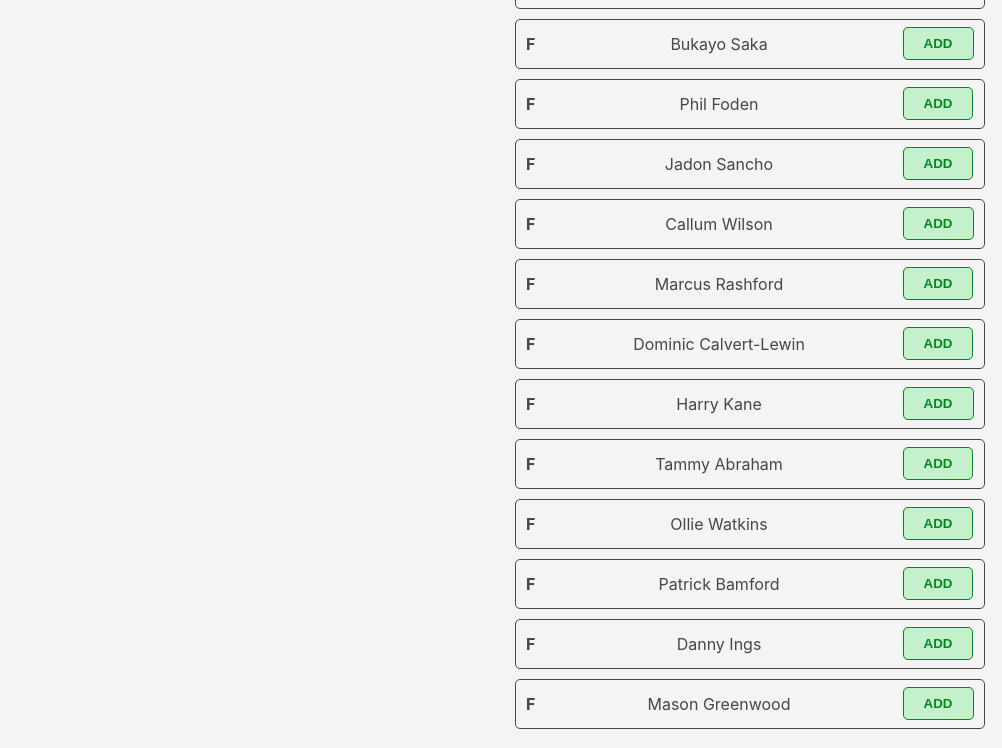
Test case: selecting a player adds them to the starting lineup
(page scrolled)
Click the button "ADD" next to "Harry Kane" at (938, 404), box [903,387,974,420]
(page scrolled)
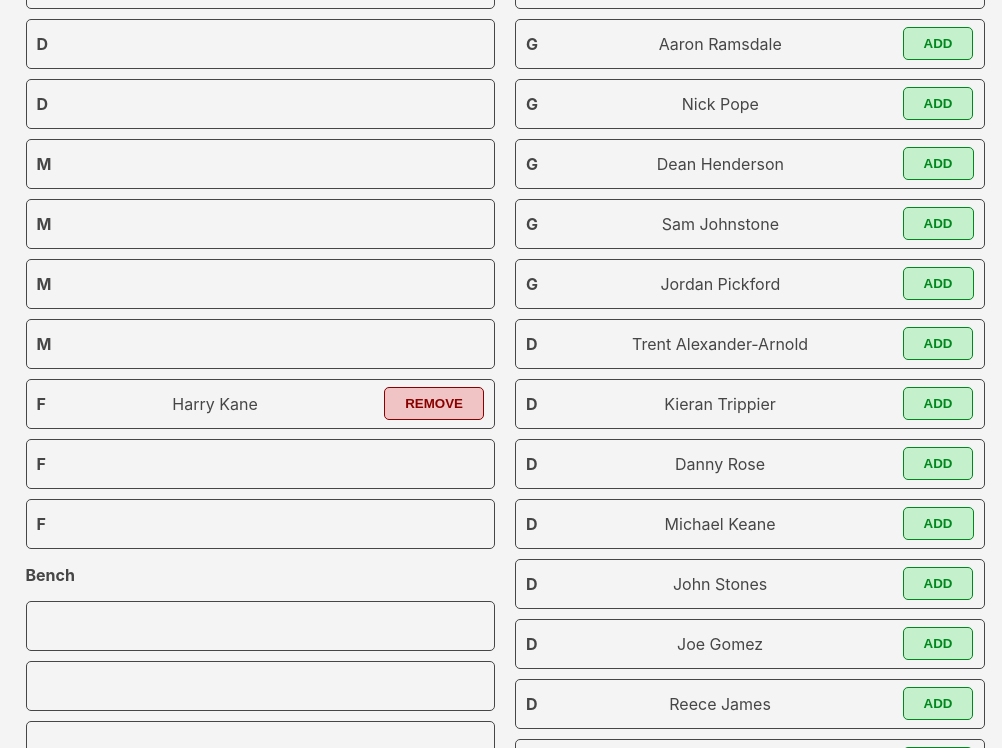
Check: the element with test id "Harry Kane" is shown, box [26,379,495,429]
